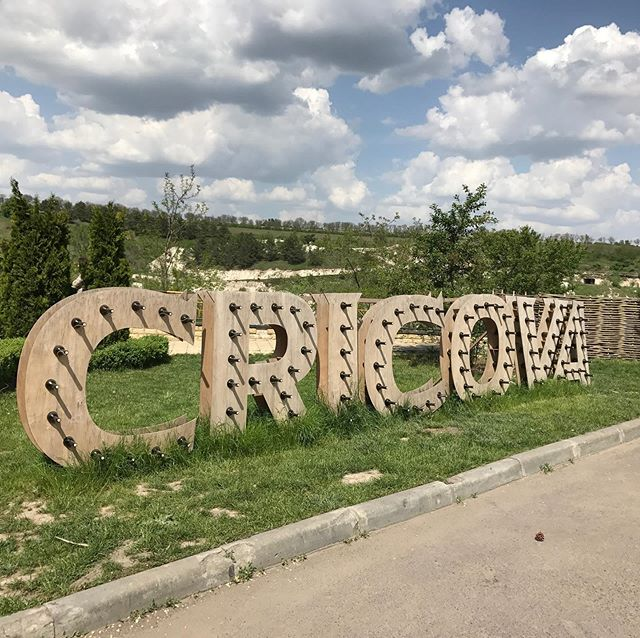sign: (15, 276, 616, 480)
sky: (1, 1, 621, 221)
street: (141, 452, 640, 638)
